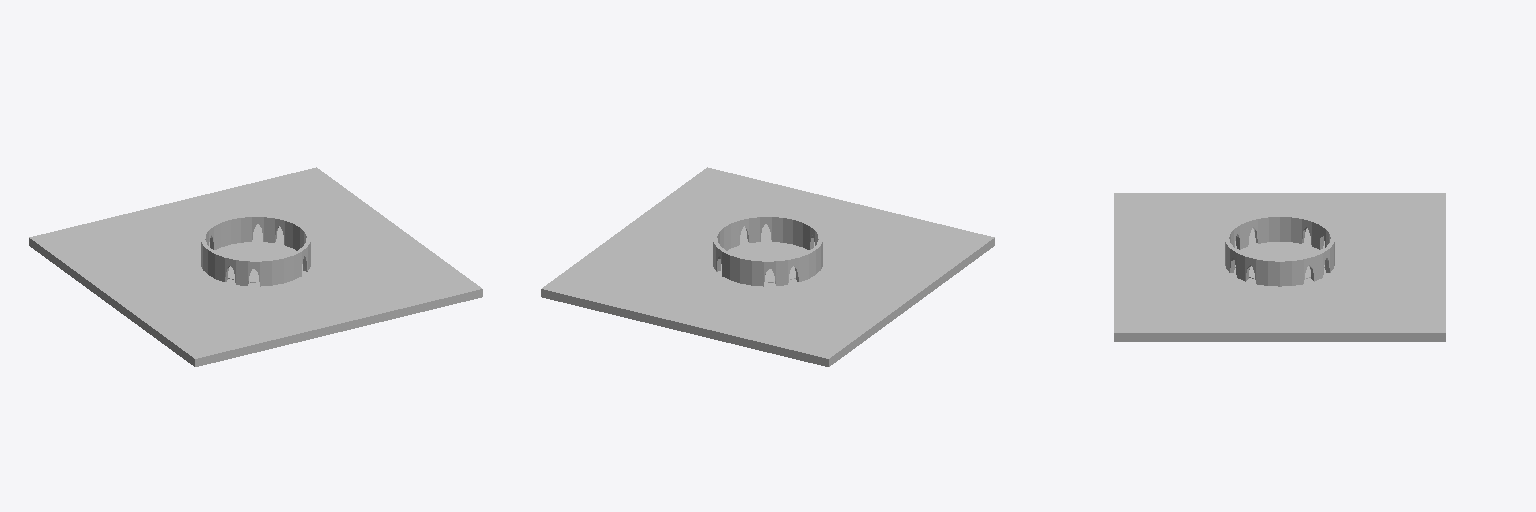
Rendered from coliseum.obj.
3 views of the same model, side by side, from view 1: azimuth 30°, elevation 25°; view 2: azimuth 150°, elevation 25°; view 3: azimuth 270°, elevation 25° (orthographic).
Parts seen in each view (by area): view 1: pCube15, pCube13, pCube14, pCube8, pCube12, pPipe1, pCube10, pCube9, pCube11, pCube7, pCylinder4; view 2: pCube12, pCube10, pCube11, pCube8, pCube15, pPipe1, pCube13, pCube9, pCube14, pCube7, pCylinder4; view 3: pCube10, pCube13, pCube9, pPipe1, pCube11, pCube12, pCube14, pCube15, pCube8, pCylinder4, pCube7.
Part boxes in pixels (bbox=[...]): pCube15: bbox=[140, 295, 290, 366]; pCube13: bbox=[333, 248, 482, 320]; pCube14: bbox=[236, 272, 386, 343]; pCube8: bbox=[84, 255, 234, 326]; pCube12: bbox=[29, 214, 179, 285]; pPipe1: bbox=[201, 215, 310, 286]; pCube10: bbox=[222, 167, 371, 230]; pCube9: bbox=[277, 208, 426, 271]; pCube11: bbox=[126, 191, 262, 254]; pCube7: bbox=[181, 232, 330, 294]; pCylinder4: bbox=[218, 243, 293, 282]; pCube12: bbox=[733, 295, 883, 366]; pCube10: bbox=[541, 248, 690, 320]; pCube11: bbox=[637, 272, 787, 343]; pCube8: bbox=[789, 255, 939, 326]; pCube15: bbox=[844, 214, 994, 285]; pPipe1: bbox=[713, 215, 822, 286]; pCube13: bbox=[652, 167, 801, 230]; pCube9: bbox=[597, 208, 746, 271]; pCube14: bbox=[761, 191, 897, 254]; pCube7: bbox=[693, 232, 842, 294]; pCylinder4: bbox=[730, 243, 805, 282]; pCube10: bbox=[1335, 287, 1445, 341]; pCube13: bbox=[1114, 287, 1224, 341]; pCube9: bbox=[1225, 287, 1334, 341]; pPipe1: bbox=[1225, 215, 1334, 286]; pCube11: bbox=[1335, 240, 1445, 286]; pCube12: bbox=[1335, 193, 1445, 239]; pCube14: bbox=[1114, 240, 1224, 286]; pCube15: bbox=[1114, 193, 1224, 239]; pCube8: bbox=[1225, 193, 1334, 239]; pCylinder4: bbox=[1235, 243, 1324, 278]; pCube7: bbox=[1225, 240, 1334, 286].
Bounding box in the file's own units: 72 × 8.45 × 72.